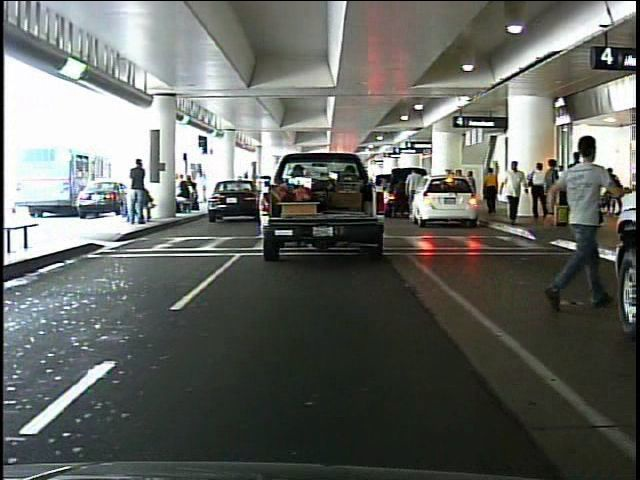person: (537, 117, 620, 327), (567, 143, 595, 231), (499, 158, 530, 229), (540, 152, 561, 233), (130, 157, 154, 227), (402, 164, 425, 219), (528, 161, 548, 223), (483, 164, 502, 216), (606, 163, 620, 195)
